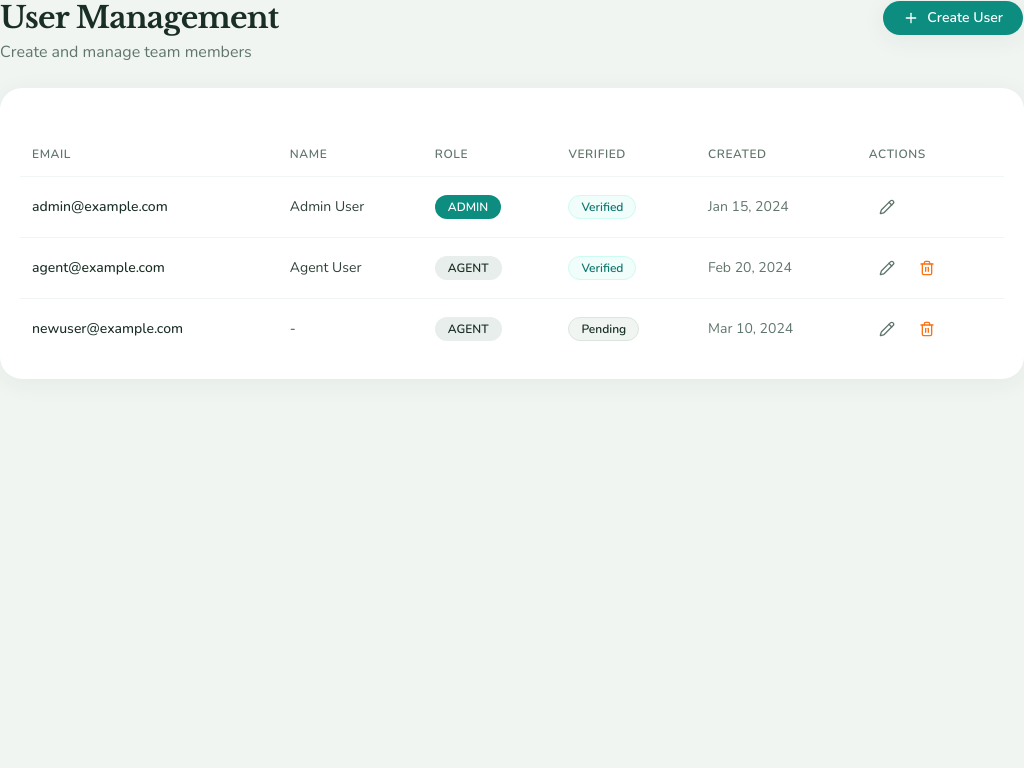
Test: UsersPage - Deletion › closes delete confirmation modal when Cancel is clicked
# Open modal
Click the button named "delete agent user" at (927, 268), box [909,250,945,286]
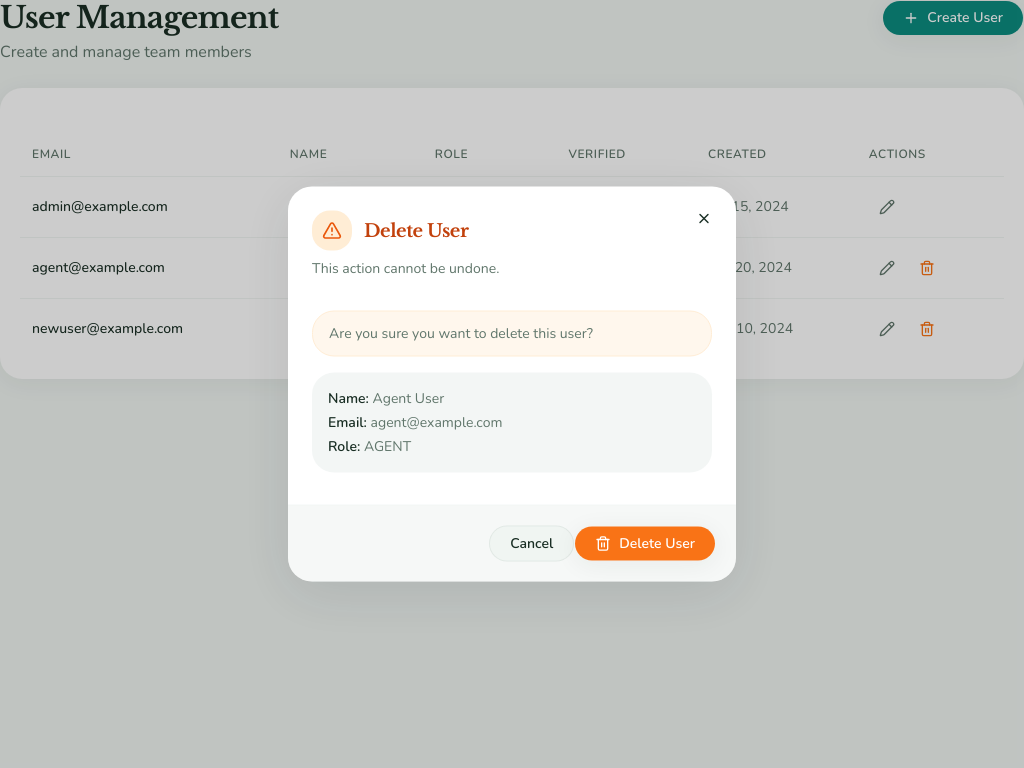
# Click Cancel
Click the button "Cancel" at (532, 544), box [489,526,574,562]
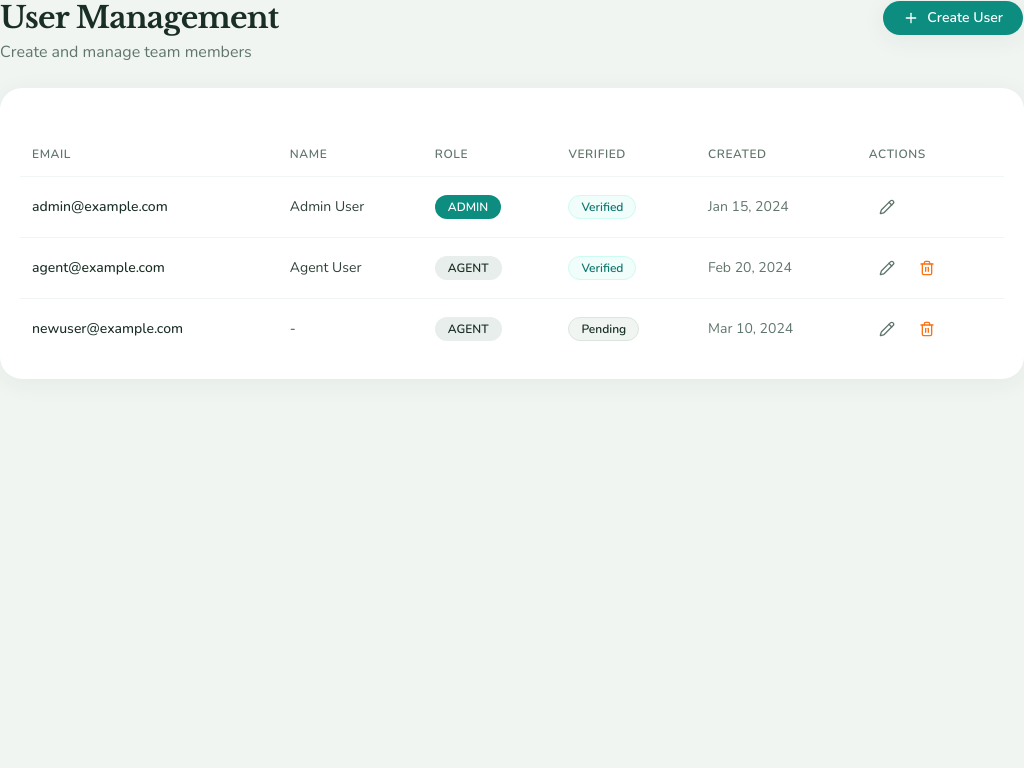
Expected: the dialog is gone
